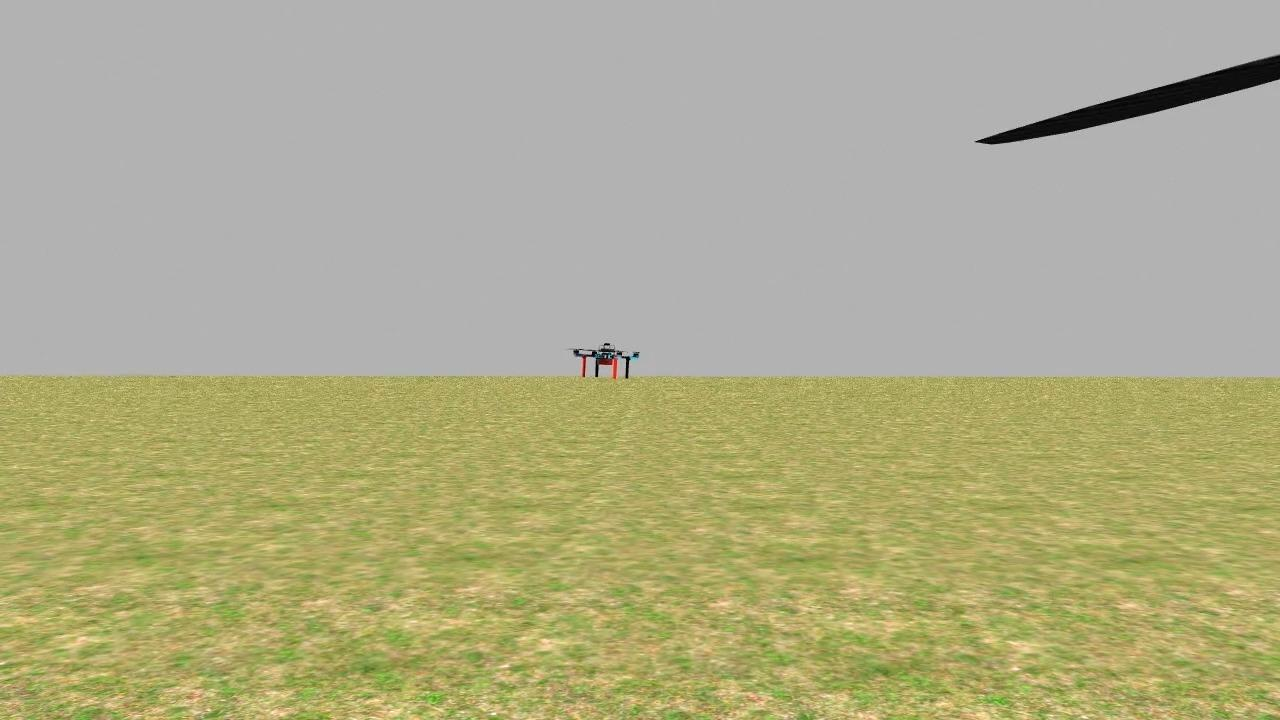UAV: (561, 334, 643, 388)
